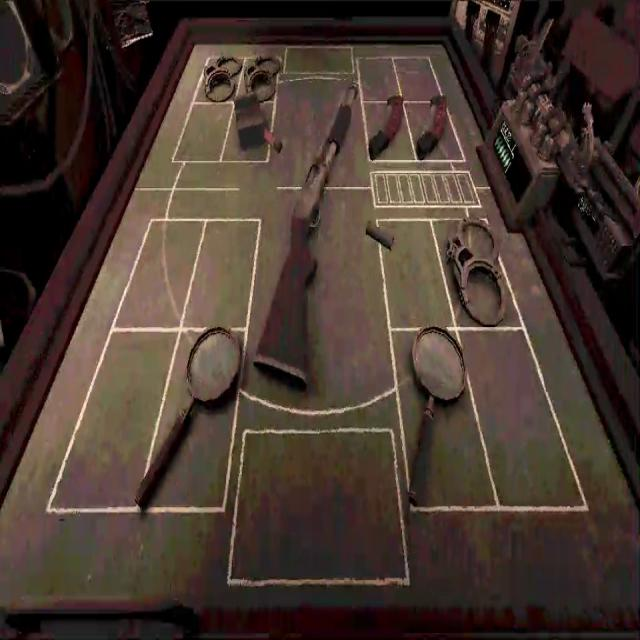ally: (0, 176, 639, 563)
doubledamage: (369, 94, 403, 159), (416, 94, 446, 159)
emptyspace: (48, 321, 182, 511), (459, 323, 589, 507), (178, 214, 258, 328), (114, 218, 201, 321), (378, 213, 456, 322)
enemyspace: (137, 32, 483, 175)
gun: (273, 82, 358, 386)
handcuff: (446, 219, 505, 326), (203, 55, 242, 101)
lens: (135, 327, 242, 507), (411, 327, 467, 420), (407, 425, 439, 511)
